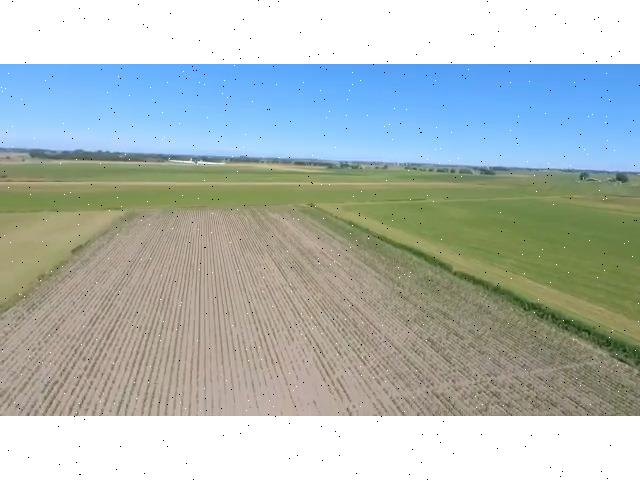Anti-Drone: (152, 143, 238, 181)
